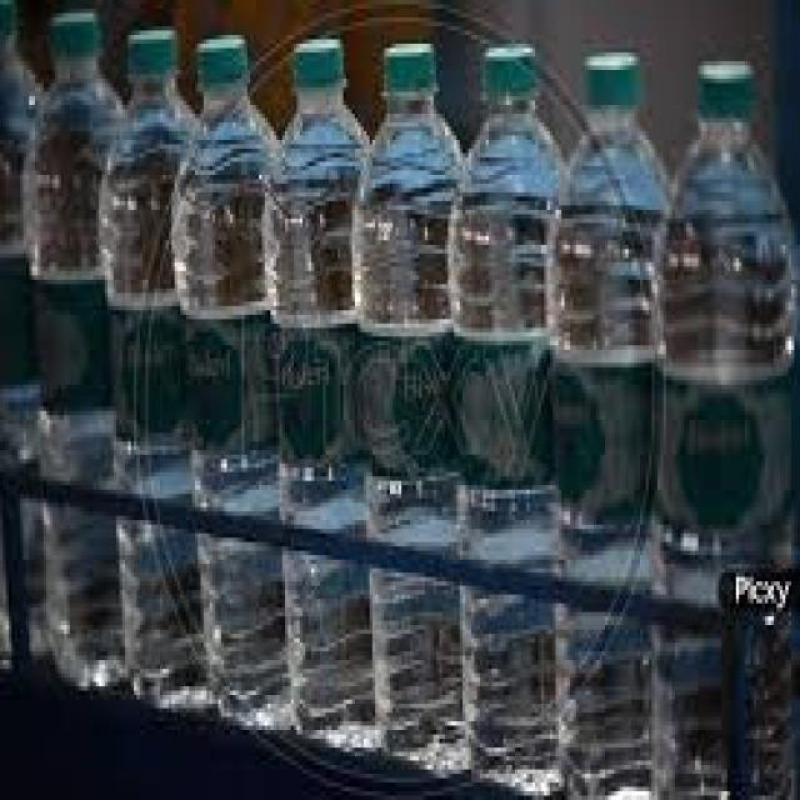botella: (657, 61, 800, 800), (545, 52, 674, 800), (446, 41, 569, 789), (351, 39, 467, 765), (265, 35, 373, 747), (173, 35, 281, 730), (99, 33, 201, 715), (23, 9, 122, 686), (0, 4, 41, 670)
